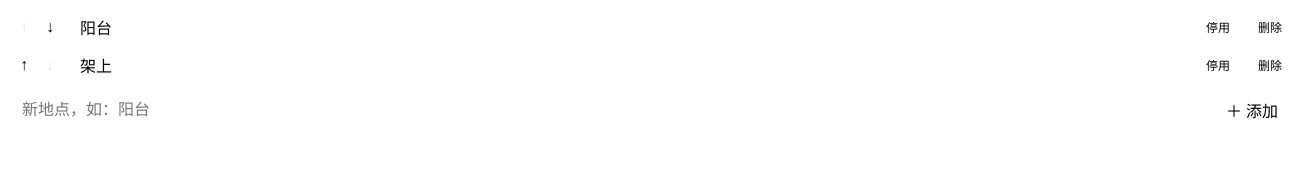
Test case: 地点管理面板（票 04 轻提示接线） › 行级删除失败（被窝引用）弹失败轻提示带原因，行保留、内联上下文照旧
Click the 1st button with class "loc-erase-btn" at coordinates (1270, 27), box [1248,13,1292,41]
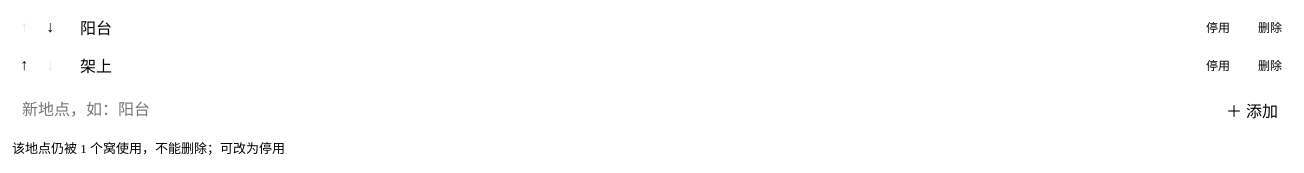
Check: the number of elements with class "loc-row" is 2, box [12,12,1292,42]; [12,50,1292,80]
Check: the text with class "loc-error" shows "改为停用", box [12,141,285,156]
